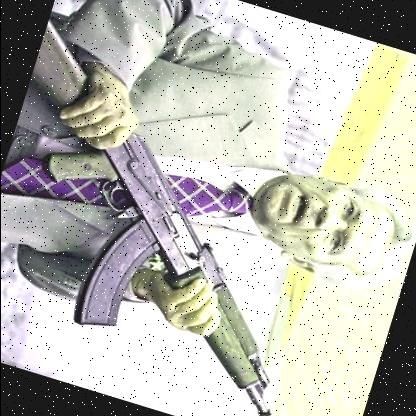rifle: (0, 12, 397, 416)
